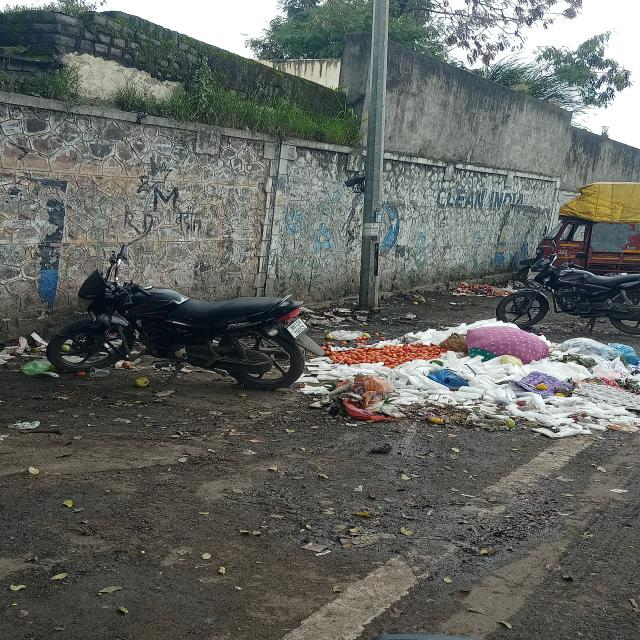garbage: (328, 325, 640, 437)
